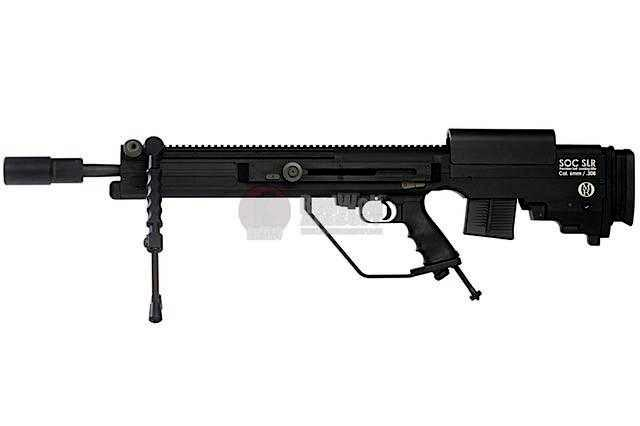rifle: (4, 112, 640, 316)
